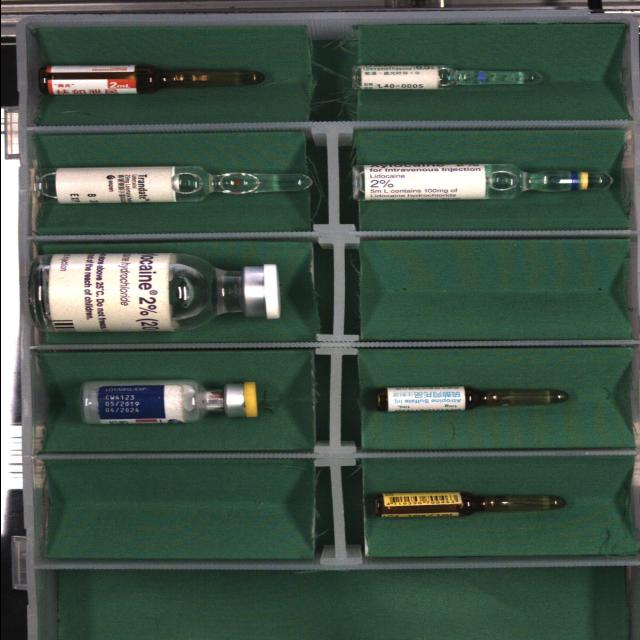Vials: (29, 252, 279, 332), (79, 380, 257, 424)
